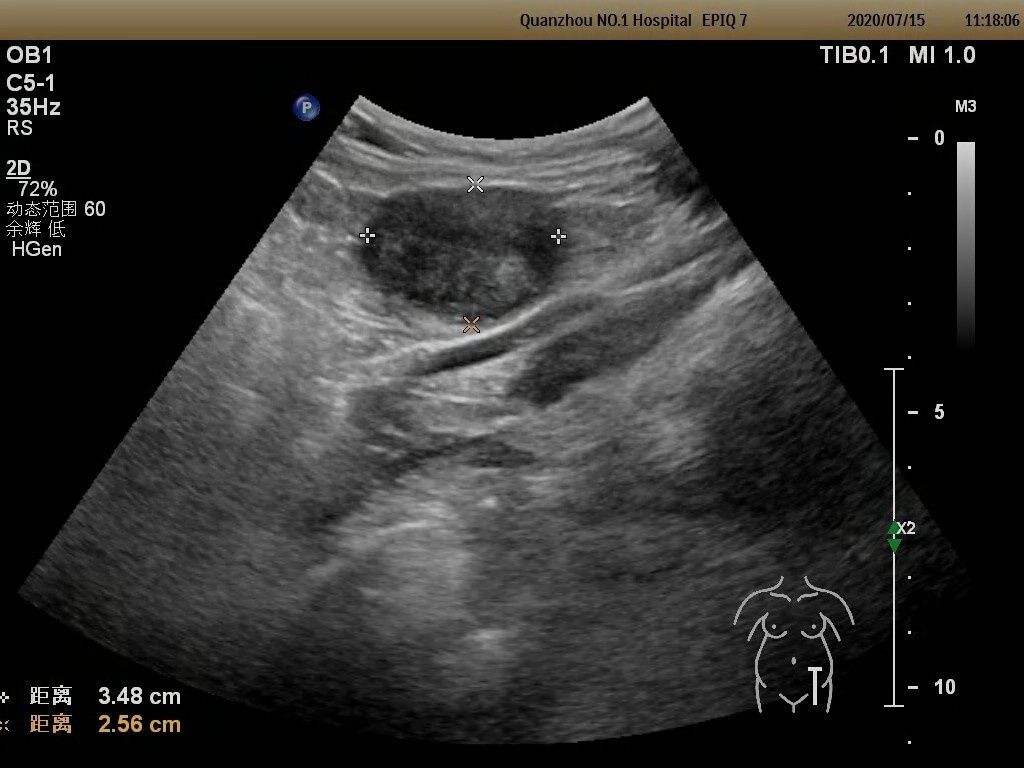肌瘤: (391, 195, 536, 308)
